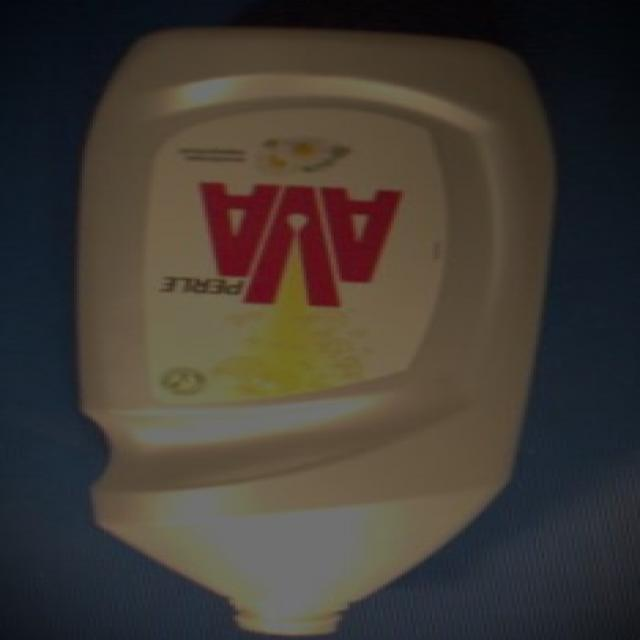HDPE Plastic: (69, 20, 558, 638)
